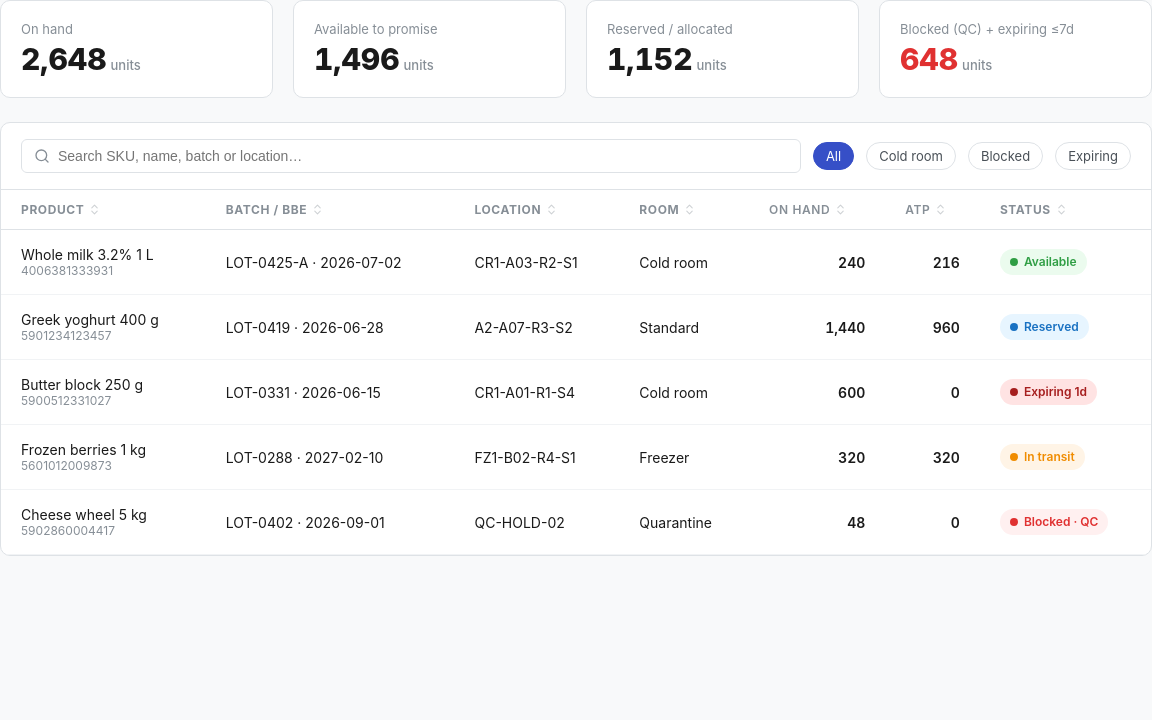
StockScreen › filters by search text
Expected: the text "Whole milk 3.2% 1 L" is shown, [21,246,154,263]
Type "berries" into the field.
click(423, 156); type("berries")  # box [58,148,788,164]
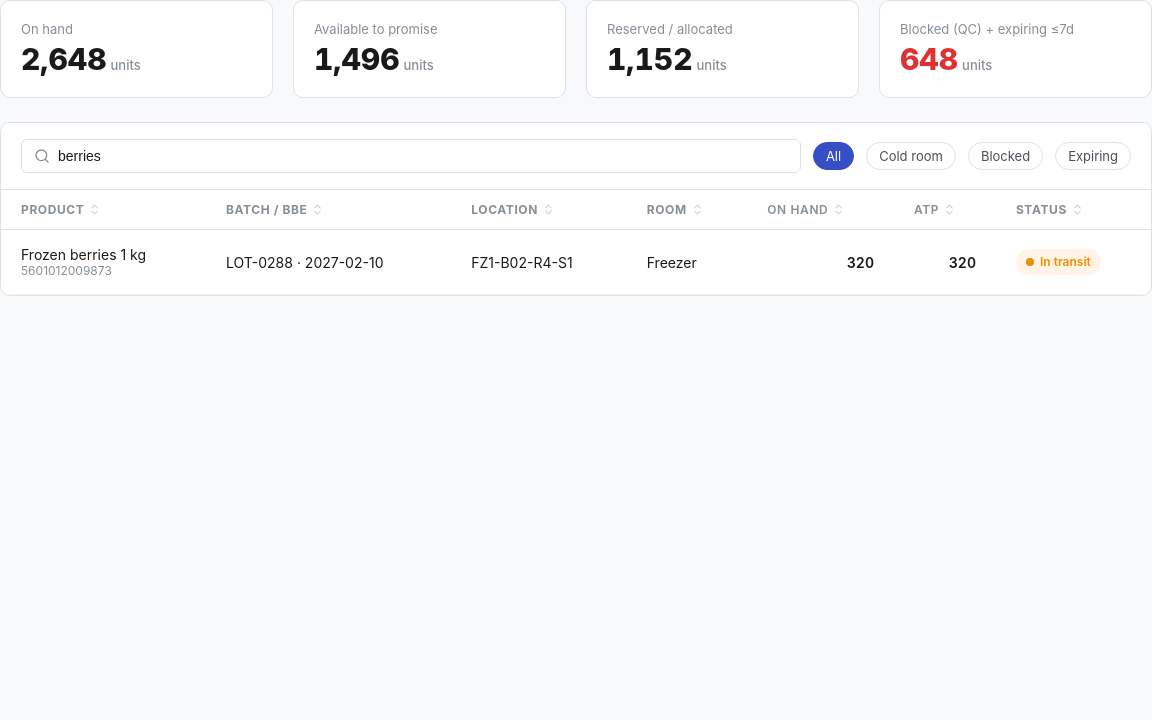
Result: the text "Frozen berries 1 kg" is shown at [21,246,146,263]
Result: the button "Whole milk 3.2% 1 L" is gone
